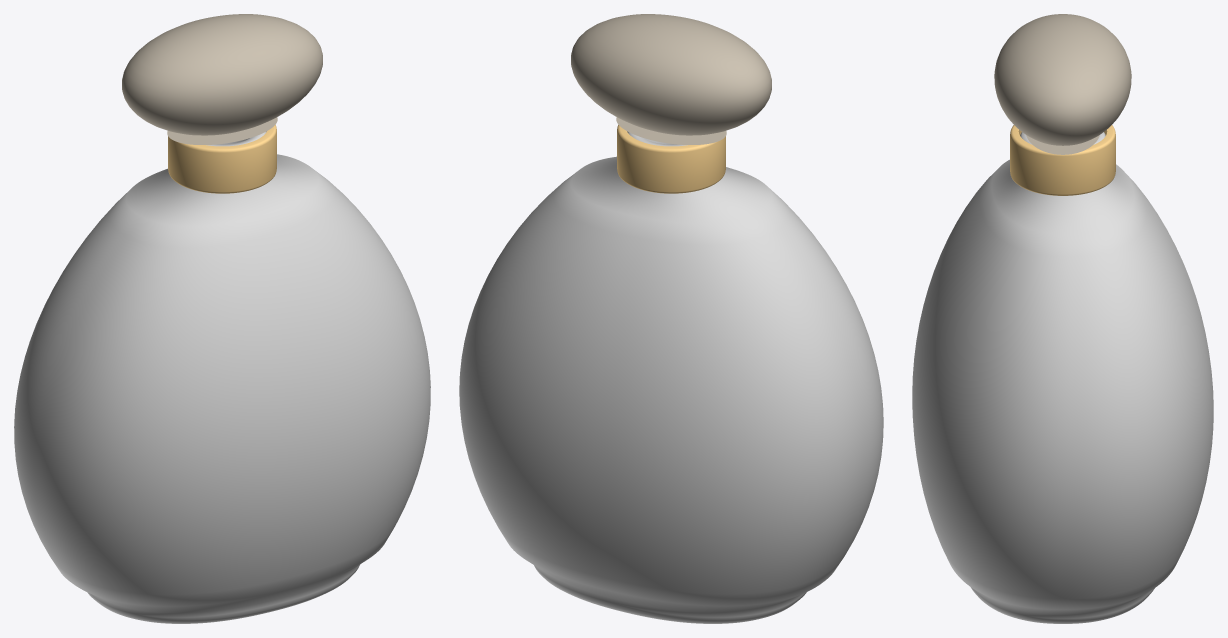
Rendered from organic-dune.glb.
The picture shows the model from 3 angles, left to right: view 1: azimuth 30°, elevation 25°; view 2: azimuth 150°, elevation 25°; view 3: azimuth 270°, elevation 25°; orthographic projection. The views are drawn at different scales.
Parts seen in each view (by area): view 1: Glass_Body, Cap, Collar; view 2: Glass_Body, Cap, Collar; view 3: Glass_Body, Cap, Collar.
Part boxes in pixels (bbox=[...]): Glass_Body: bbox=[14, 131, 430, 623]; Cap: bbox=[122, 14, 322, 144]; Collar: bbox=[168, 125, 276, 193]; Glass_Body: bbox=[459, 131, 883, 623]; Cap: bbox=[571, 14, 771, 144]; Collar: bbox=[617, 125, 725, 193]; Glass_Body: bbox=[912, 132, 1213, 623]; Cap: bbox=[994, 14, 1131, 154]; Collar: bbox=[1010, 125, 1115, 195].
Size of the model in its own units: 0.0744 by 0.103 by 0.0525.
